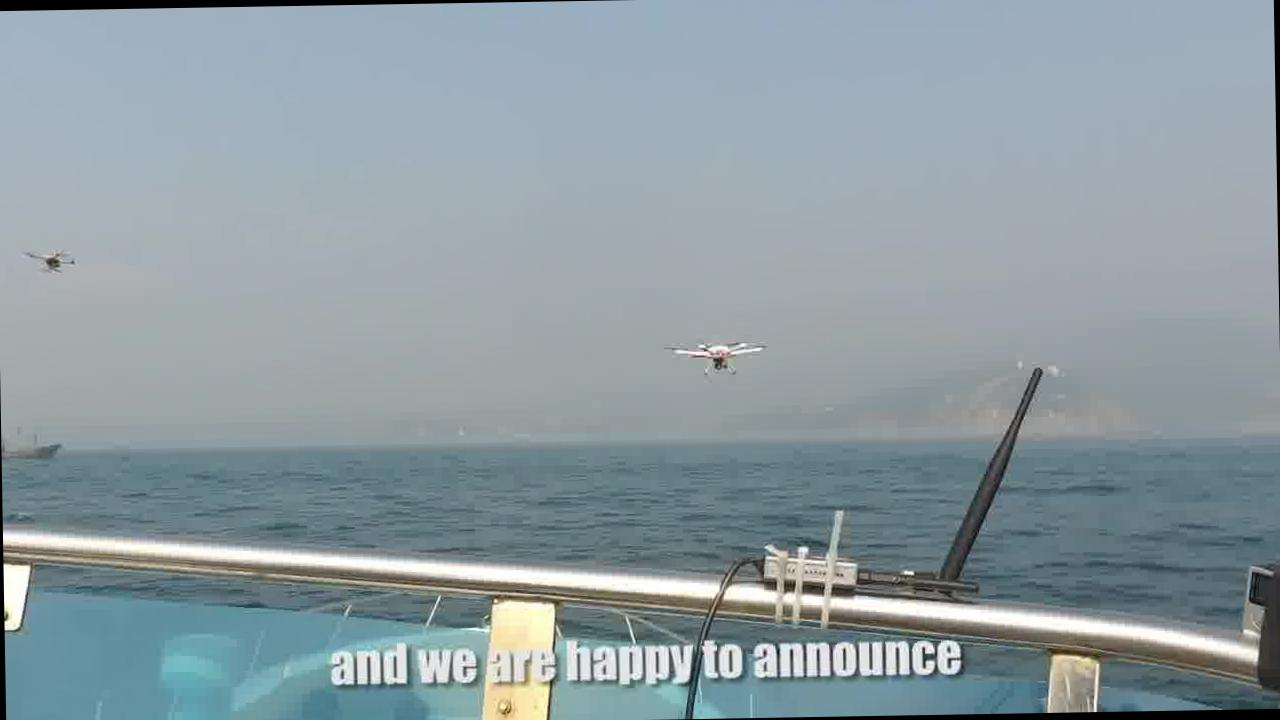drone: (662, 332, 772, 382), (15, 244, 76, 275)
